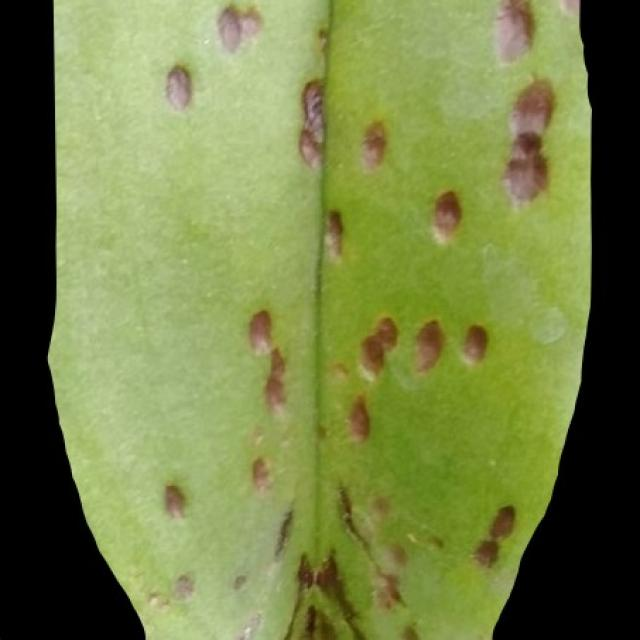mite: (335, 308, 494, 444), (353, 311, 493, 379), (162, 62, 192, 110)
spots: (48, 0, 595, 639)
